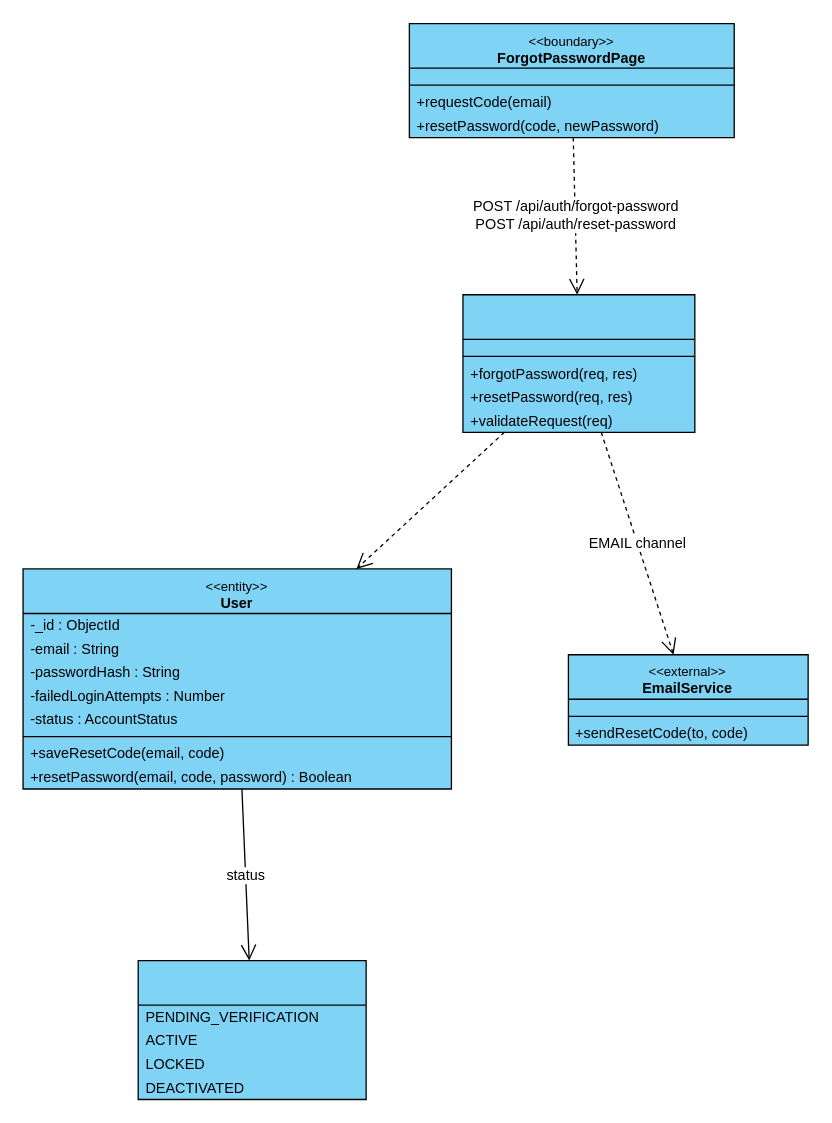
The diagram is 832 pixels wide and 1123 high, and some of its shapes have lost their labels. The box of each missing label's shape, as (x1, y1, x2, y2) in pixels:
<<boundary>> AuthController: (462, 293, 695, 432)
<<enumeration>> AccountStatus: (137, 959, 366, 1099)
